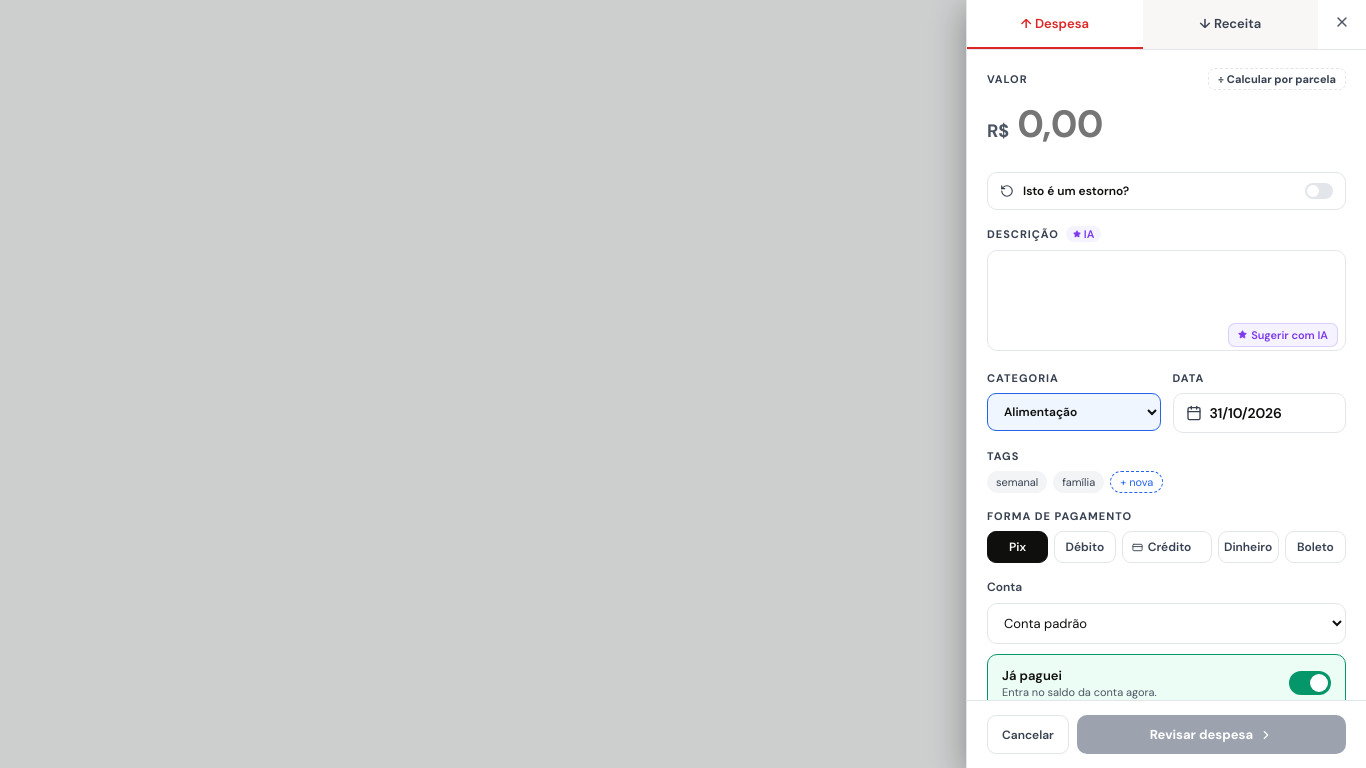
Test: NovaTransacaoModal — campo "+ nova" tag (fincla-frontend#109 achado 5) › ensureDetailTag rejeita (catálogo ainda carregando): preserva o texto digitado, não fecha o campo
Click the text "+ nova": (1137, 482) [1110,471,1163,493]
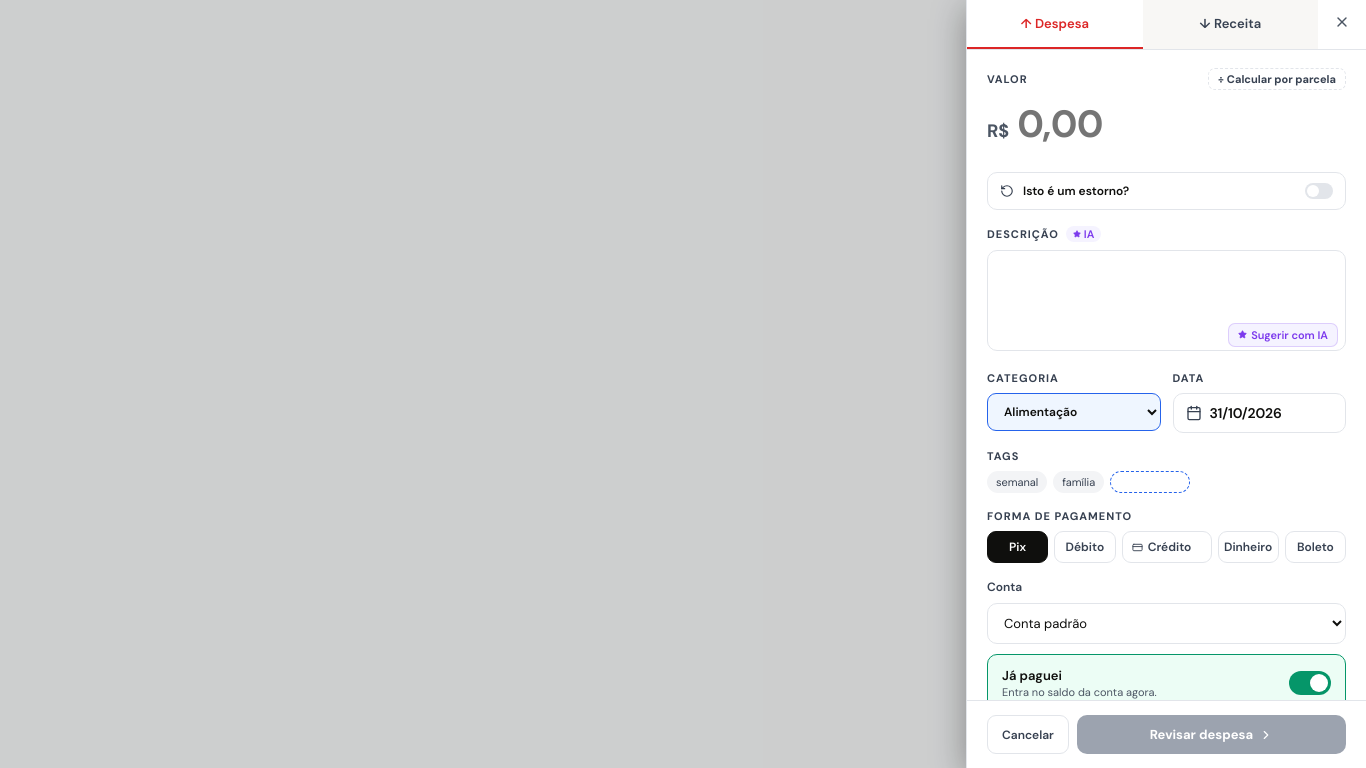
Expected: the 2nd field is shown
In the 2nd field: (1150, 482) [1110,471,1190,493], type "mensal"
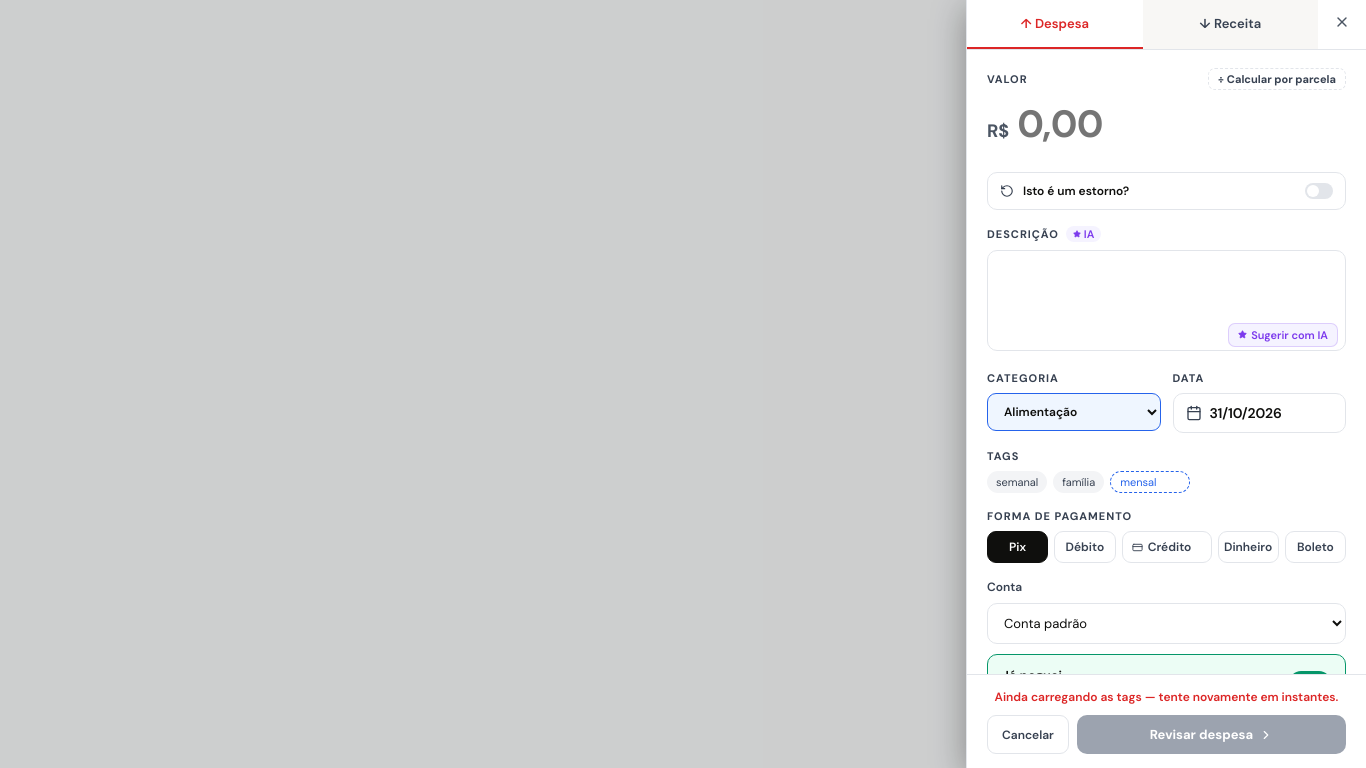
Expected: the text "Ainda carregando as tags — tente novamente em instantes." is shown, [987,689,1346,705]
